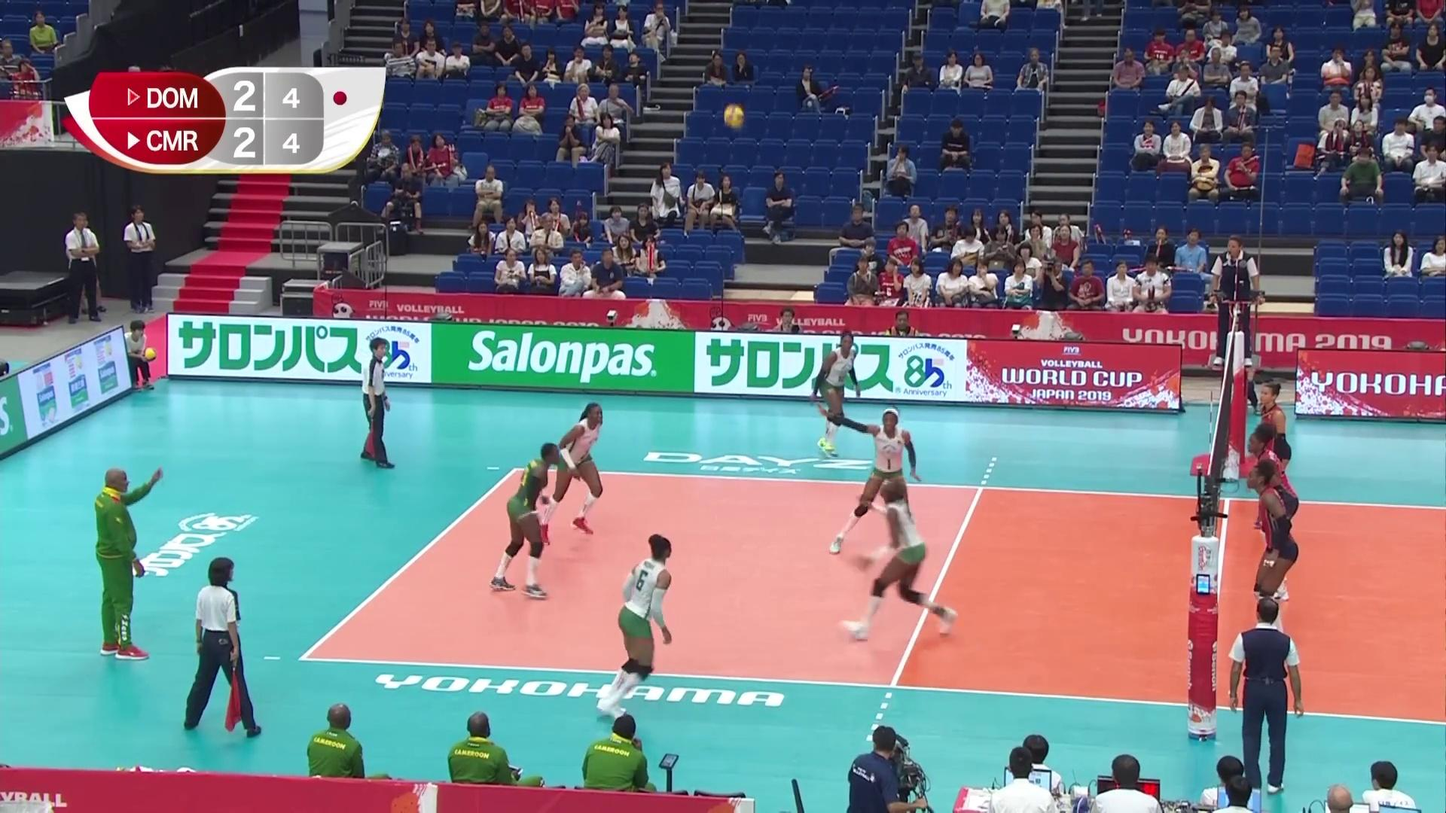player: (838, 476, 962, 642), (600, 538, 685, 712), (830, 410, 920, 557), (488, 441, 562, 601), (1245, 466, 1300, 639), (1244, 431, 1298, 606), (536, 405, 605, 540), (808, 326, 867, 461), (1252, 374, 1293, 529)
refree: (1231, 601, 1307, 792), (184, 561, 248, 737), (1212, 237, 1270, 368), (354, 332, 398, 470)
